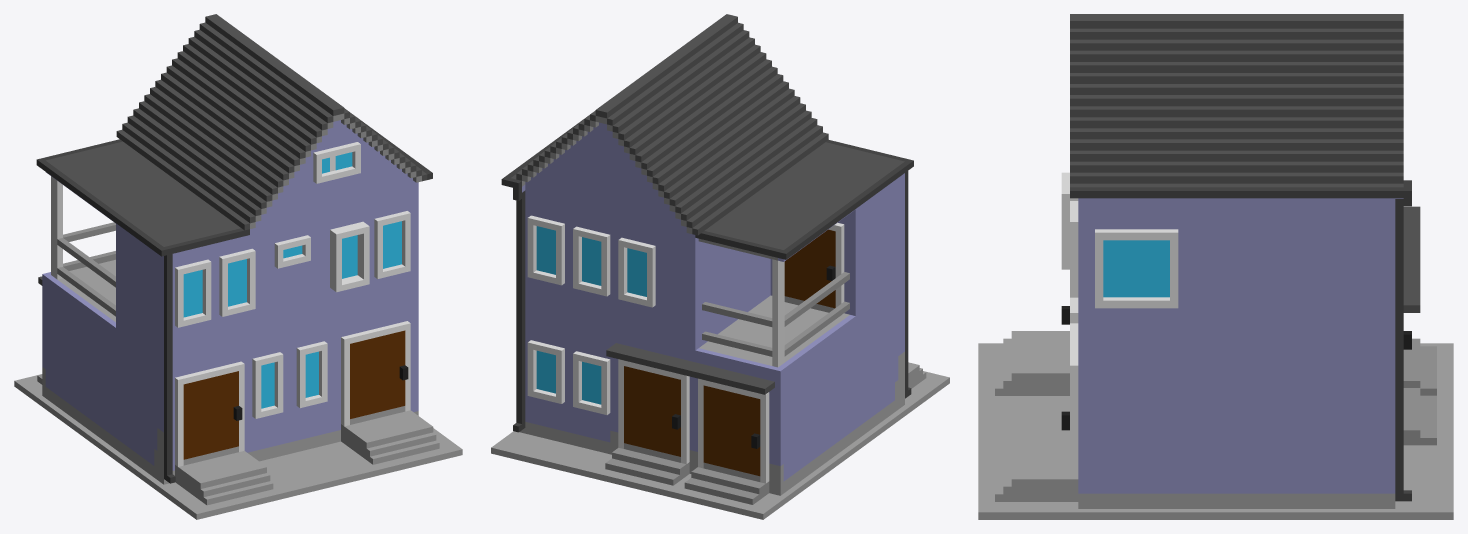
Rendered from obj_house8c.obj.
3 views of the same model, side by side, from view 1: azimuth 30°, elevation 25°; view 2: azimuth 150°, elevation 25°; view 3: azimuth 270°, elevation 25° (orthographic). The views are drawn at different scales.
Bounding box in the file's own units: 4.9 × 5.9 × 5.7.
1 material, 1 textured.
